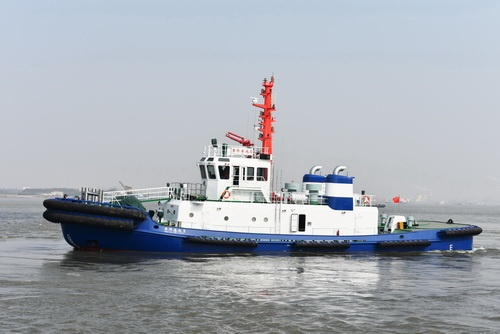otherboat: (40, 79, 481, 260)
